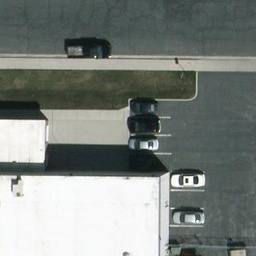car: (65, 34, 107, 62), (172, 168, 205, 189), (129, 96, 162, 116), (128, 116, 160, 133), (170, 209, 204, 224), (128, 138, 158, 153)
